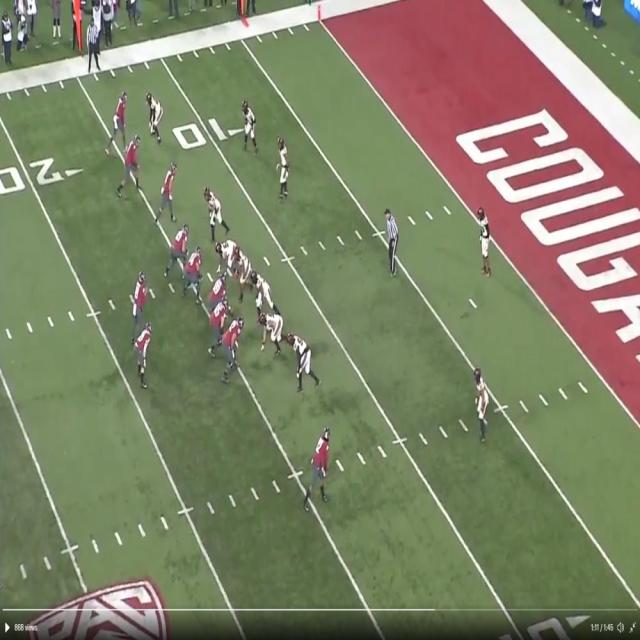center: (208, 270, 229, 302)
db: (479, 213, 496, 271), (476, 372, 488, 438), (278, 138, 288, 198), (148, 92, 161, 136), (245, 100, 258, 144)
lb: (254, 270, 271, 312), (238, 245, 254, 284)
qb: (132, 278, 145, 328)
skill: (122, 134, 140, 189), (109, 89, 127, 143), (316, 424, 332, 482), (158, 161, 175, 215), (136, 324, 152, 379), (52, 0, 64, 32)
